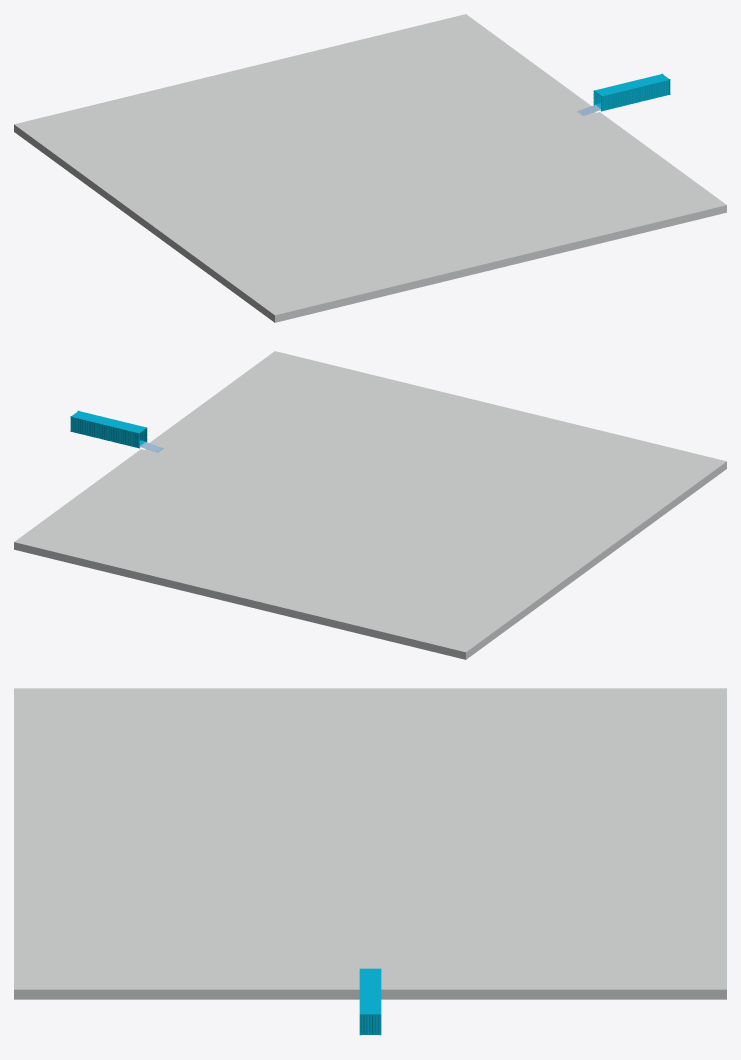
The model's file is warehouse_sim_9.dae.
3 views of the same model, one above another, from view 1: azimuth 30°, elevation 25°; view 2: azimuth 150°, elevation 25°; view 3: azimuth 270°, elevation 25° (orthographic). The views are drawn at different scales.
Visible parts, largest first — view 1: raised_floor; view 2: raised_floor; view 3: raised_floor.
Part boxes in pixels (x1=…): raised_floor: x1=14, y1=14, x2=726, y2=322; raised_floor: x1=14, y1=351, x2=726, y2=659; raised_floor: x1=14, y1=688, x2=726, y2=1035.
Size of the model in its own units: 95.28 by 80 by 3.97.
